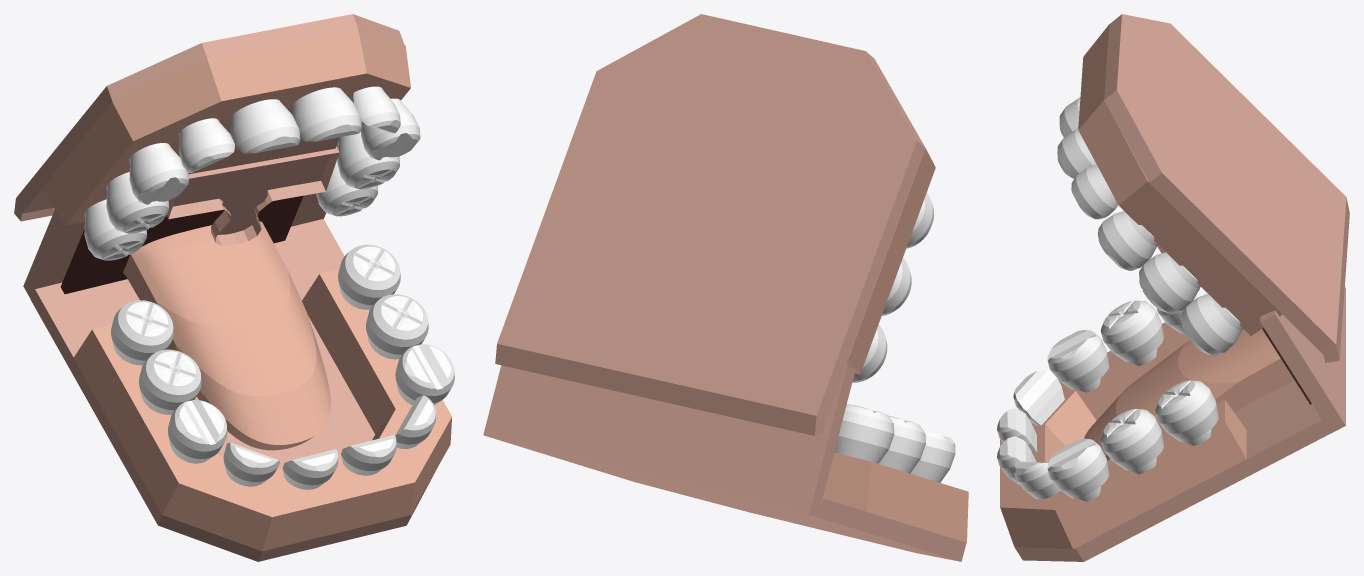
Rendered from tooth.fbx.
The picture shows the model from 3 angles, left to right: view 1: azimuth 30°, elevation 25°; view 2: azimuth 150°, elevation 25°; view 3: azimuth 270°, elevation 25°; orthographic projection. The views are drawn at different scales.
Parts seen in each view (by area): view 1: 개체_7.005, 개체_9.002, 개체_5.005, 개체_1.006, 개체_2.006, 개체_6.005, 개체_3.005, 개체_4.005, 개체_19.001, 개체_12.001, 개체_20.001, 개체_13.001 (+16 smaller); view 2: 개체_6.005, 개체_4.005, 개체_7.005, 개체_8.002, 개체_1.006, 개체_5.005, 개체_13.001, 개체_12.001, 개체_11.001, 개체_4.006, 개체_5.006, 개체_6.006; view 3: 개체_6.005, 개체_7.005, 개체_5.005, 개체_1.006, 개체_9.002, 개체_4.005, 개체_12.001, 개체_20.001, 개체_19.001, 개체_18.001, 개체_11.001, 개체_1.007 (+11 smaller).
Part boxes in pixels (<box>): 개체_7.005: <box>73,269,451,551</box>; 개체_9.002: <box>123,221,330,450</box>; 개체_5.005: <box>43,30,410,225</box>; 개체_1.006: <box>31,219,437,561</box>; 개체_2.006: <box>166,137,339,245</box>; 개체_6.005: <box>16,14,404,213</box>; 개체_3.005: <box>60,195,303,294</box>; 개체_4.005: <box>23,193,325,299</box>; 개체_19.001: <box>366,294,428,359</box>; 개체_12.001: <box>139,349,201,414</box>; 개체_20.001: <box>338,244,400,309</box>; 개체_13.001: <box>111,300,173,365</box>; 개체_6.005: <box>497,14,924,422</box>; 개체_4.005: <box>483,364,854,517</box>; 개체_7.005: <box>822,452,968,542</box>; 개체_8.002: <box>495,344,824,435</box>; 개체_1.006: <box>496,439,966,561</box>; 개체_5.005: <box>846,58,935,374</box>; 개체_13.001: <box>834,404,894,463</box>; 개체_12.001: <box>878,415,925,473</box>; 개체_11.001: <box>910,431,955,482</box>; 개체_4.006: <box>852,324,887,382</box>; 개체_5.006: <box>882,258,911,315</box>; 개체_6.006: <box>906,193,934,248</box>; 개체_6.005: <box>1104,14,1346,354</box>; 개체_7.005: <box>1000,322,1246,549</box>; 개체_5.005: <box>1078,24,1282,335</box>; 개체_1.006: <box>1014,380,1330,561</box>; 개체_9.002: <box>1084,329,1294,460</box>; 개체_4.005: <box>1260,287,1345,433</box>; 개체_12.001: <box>1100,300,1163,365</box>; 개체_20.001: <box>1155,380,1218,445</box>; 개체_19.001: <box>1101,409,1163,474</box>; 개체_18.001: <box>1047,438,1109,501</box>; 개체_11.001: <box>1047,330,1109,392</box>; 개체_1.007: <box>1181,294,1243,355</box>.
Bounding box in the file's own units: 3910 × 6033 × 4080.
